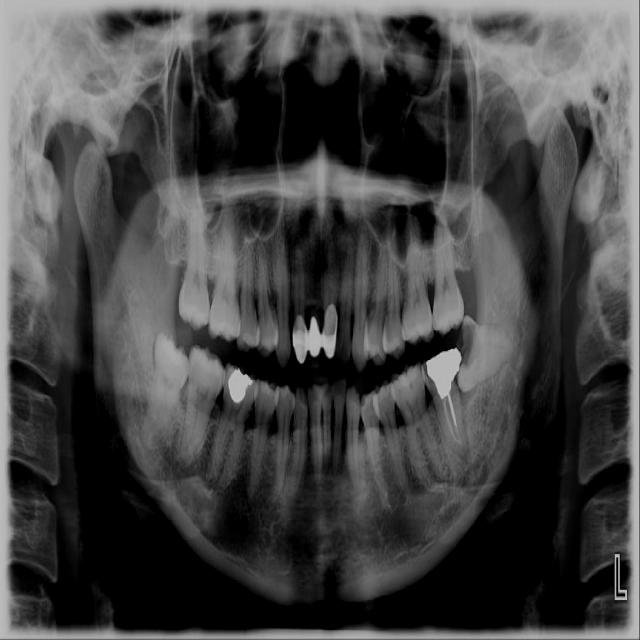Caries: (458, 325, 482, 369)
Crown: (292, 304, 339, 369)
Filling: (223, 363, 260, 416), (223, 363, 259, 416), (424, 348, 460, 395)
Root Canal Treatment: (441, 397, 457, 440), (449, 397, 456, 435)
impacted tooth: (143, 335, 188, 449), (457, 316, 525, 388)
